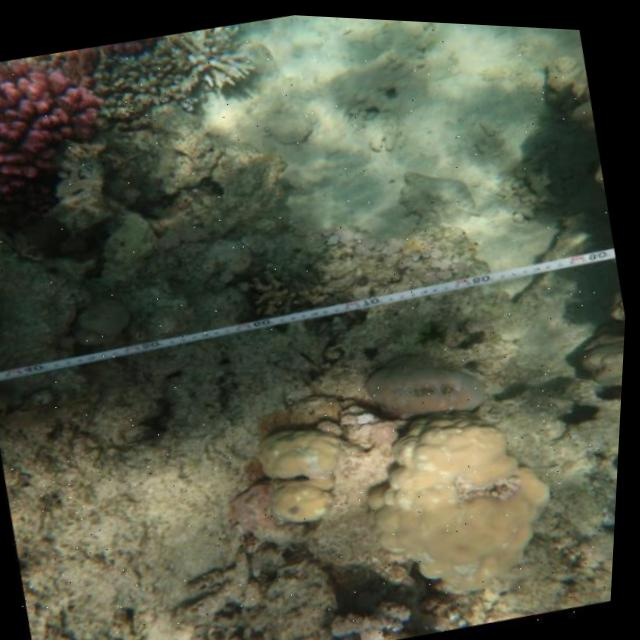Bleached Coral: (168, 13, 273, 108)
Healthy Coral: (0, 38, 143, 271)
